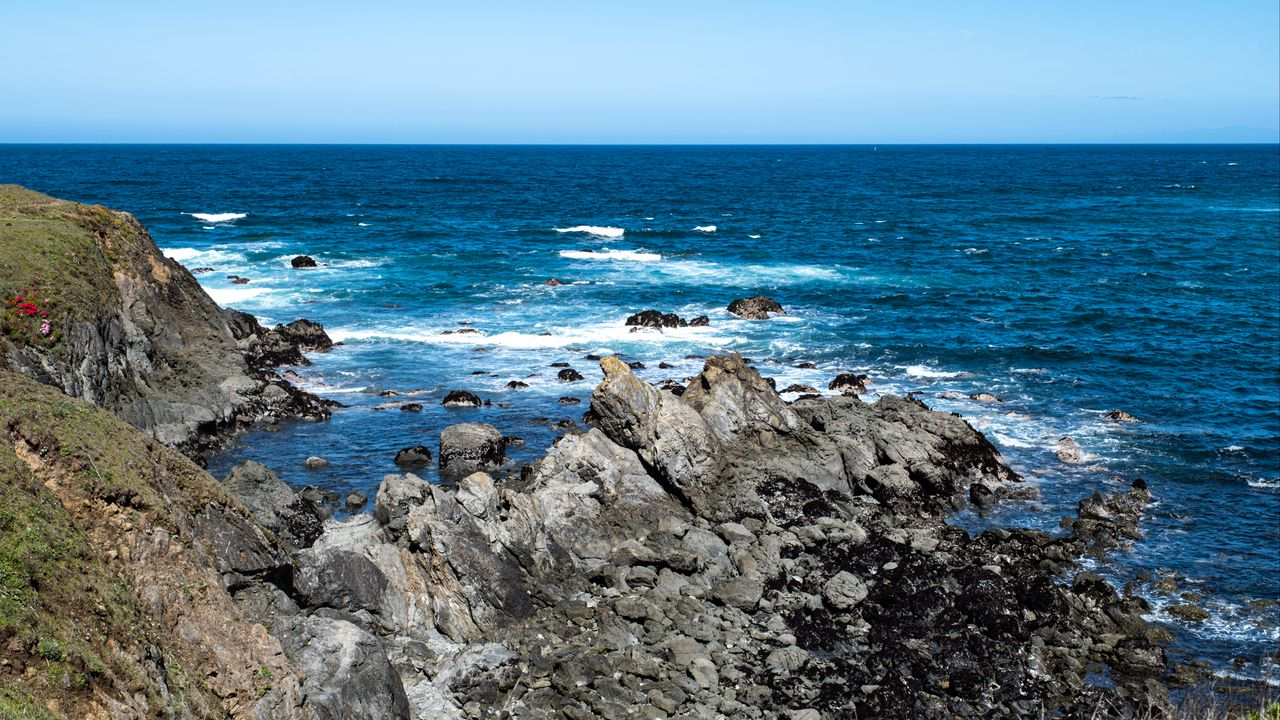Videoprojecteur: (183, 282, 377, 426)
